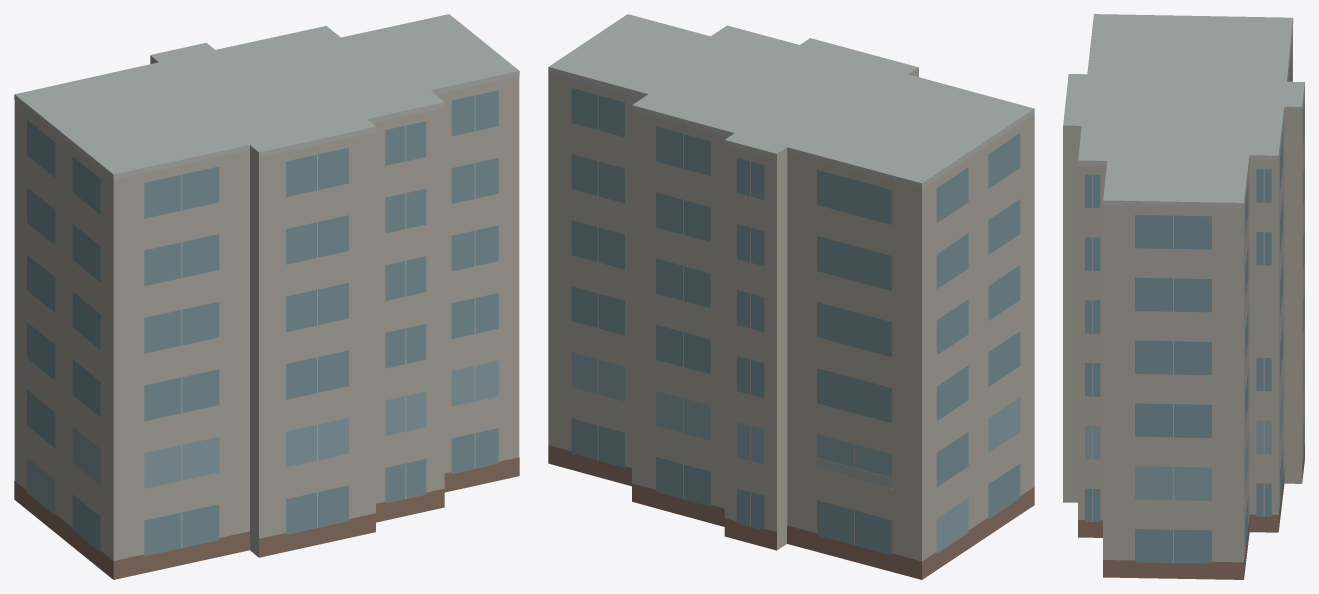
Rendered from survey-upis-32704087.glb.
The picture shows the model from 3 angles, left to right: view 1: azimuth 30°, elevation 25°; view 2: azimuth 150°, elevation 25°; view 3: azimuth 270°, elevation 25°; orthographic projection. The views are drawn at different scales.
Parts seen in each view (by area): view 1: survey-upis-32704087.tmp; view 2: survey-upis-32704087.tmp; view 3: survey-upis-32704087.tmp.
Part boxes in pixels (x1=…): survey-upis-32704087.tmp: x1=14, y1=14, x2=519, y2=579; survey-upis-32704087.tmp: x1=548, y1=14, x2=1034, y2=579; survey-upis-32704087.tmp: x1=1063, y1=14, x2=1304, y2=579.
Size of the model in its own units: 19.46 by 18.1 by 10.53.
